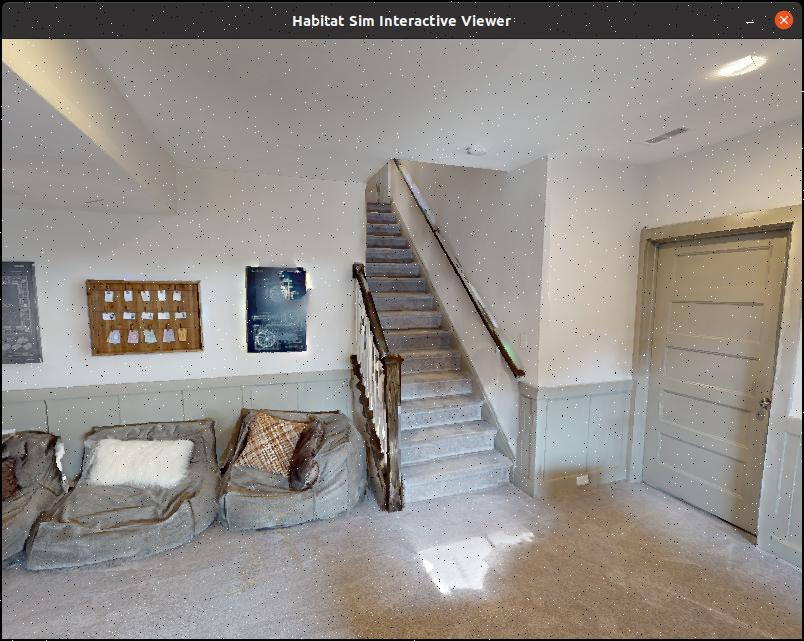door: (641, 236, 784, 538)
